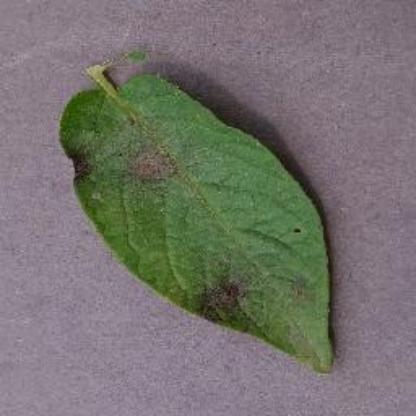Late-Blight: (37, 39, 383, 397)
